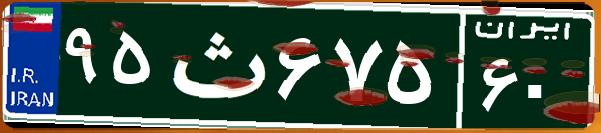0: (525, 38, 570, 115)
5: (385, 28, 445, 110), (110, 28, 158, 105)
6: (273, 28, 330, 110), (475, 38, 525, 113)
7: (330, 28, 385, 110)
9: (57, 26, 110, 107)
ث: (158, 15, 273, 115)
